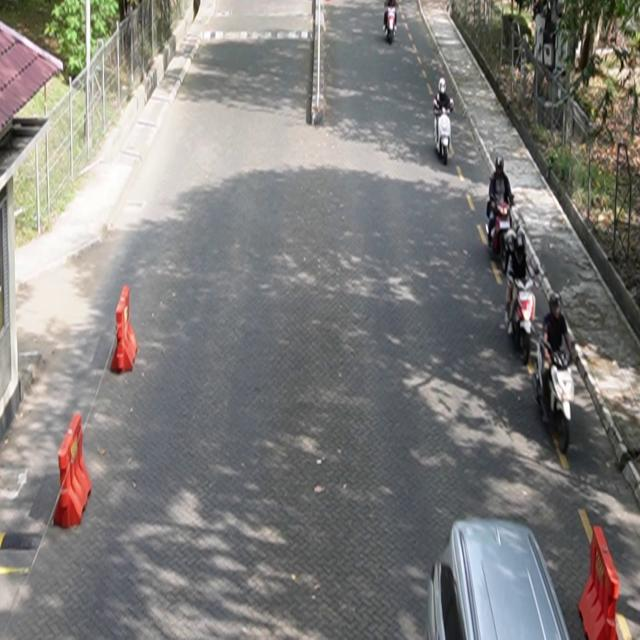car: (427, 517, 572, 640)
